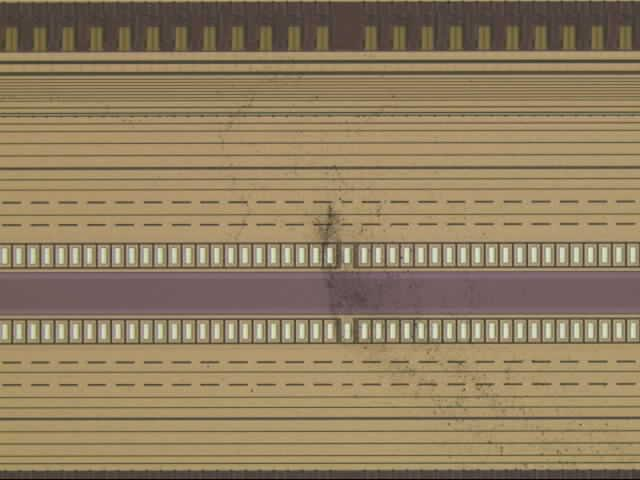PO CONTAMINATION: (208, 71, 628, 480)
